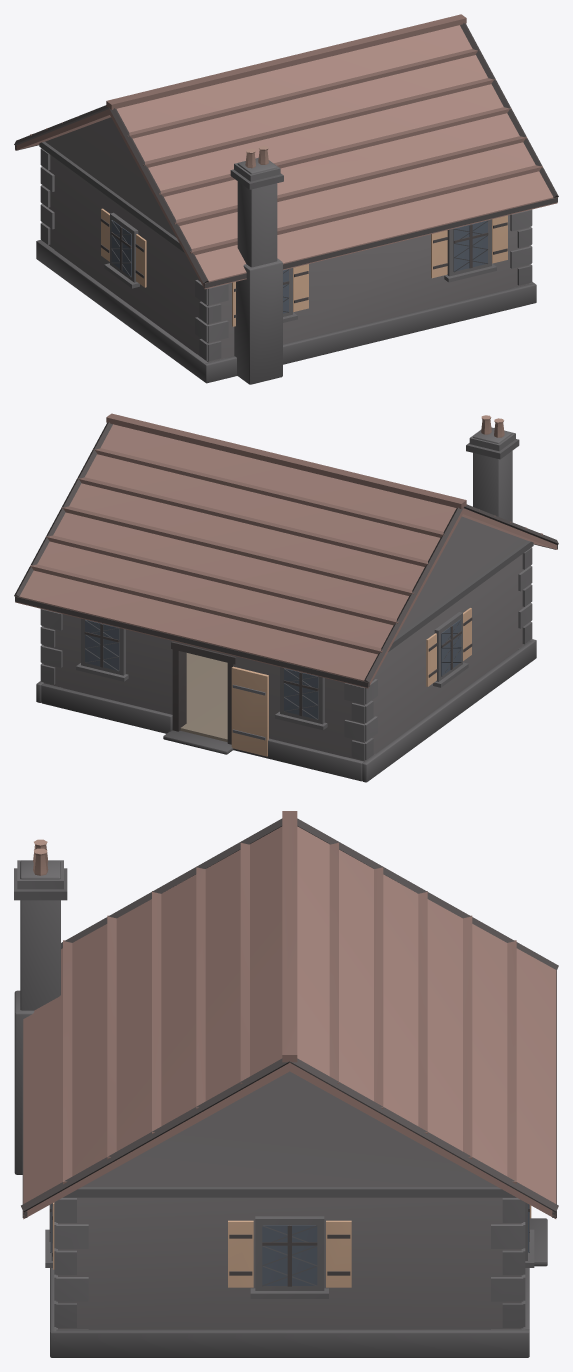
File: open_house_cinder.gltf
3 views of the same model, one above another, from view 1: azimuth 30°, elevation 25°; view 2: azimuth 150°, elevation 25°; view 3: azimuth 270°, elevation 25° (orthographic). The views are drawn at different scales.
Visible parts, largest first — view 1: Body; view 2: Body; view 3: Body.
Part boxes in pixels (x1,y1,x2,y2): Body: (14, 14, 558, 384); Body: (14, 413, 558, 782); Body: (14, 811, 558, 1357).
Bounding box in the file's own units: 9.97 × 6.04 × 9.4.
